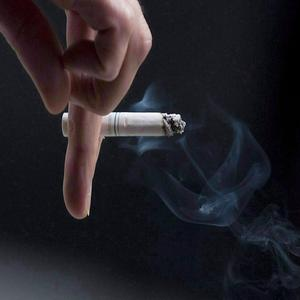cigarette: (59, 111, 192, 139)
